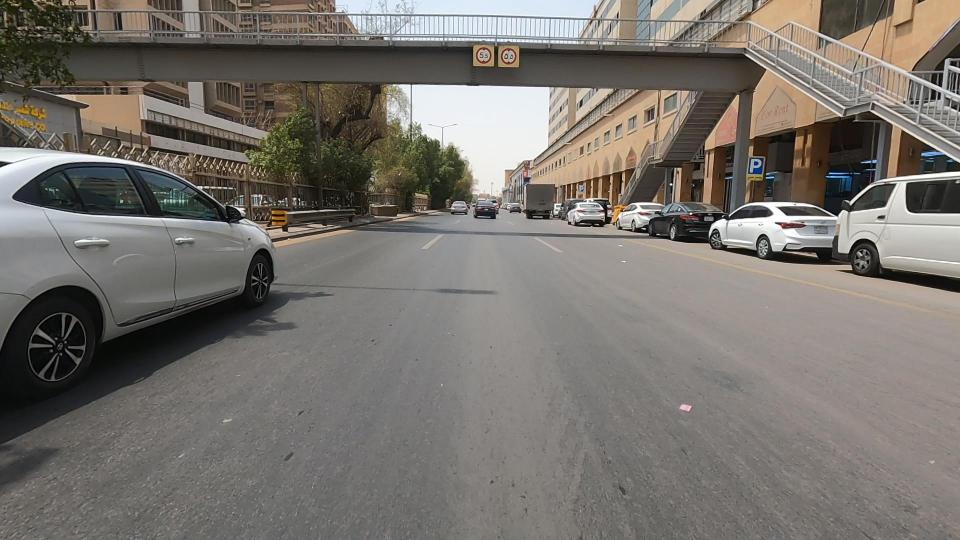BAD_BILLBOARD: (718, 64, 833, 147), (683, 83, 775, 170), (599, 127, 667, 189), (582, 143, 622, 180)
